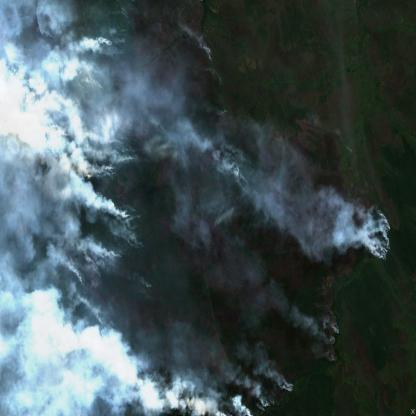fire: (30, 21, 141, 234), (117, 330, 297, 416), (358, 202, 402, 268)
